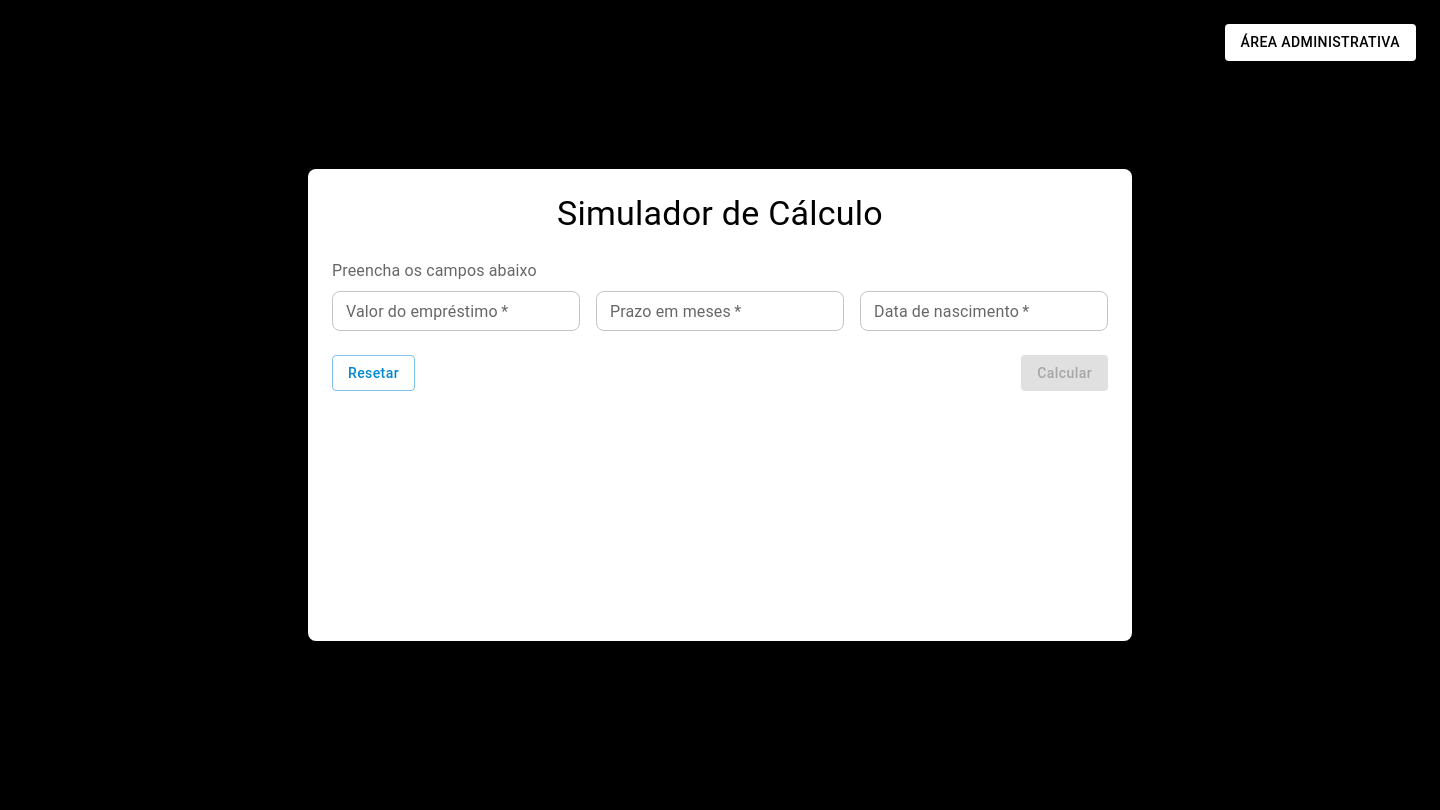
Simulador de Cálculo › exibe erro para idade menor que 6 anos
The width and height of the screenshot is (1440, 810).
Type "1000" into the field labelled "Valor do empréstimo *".
click(456, 311); type("1000")  # box [332,291,580,331]
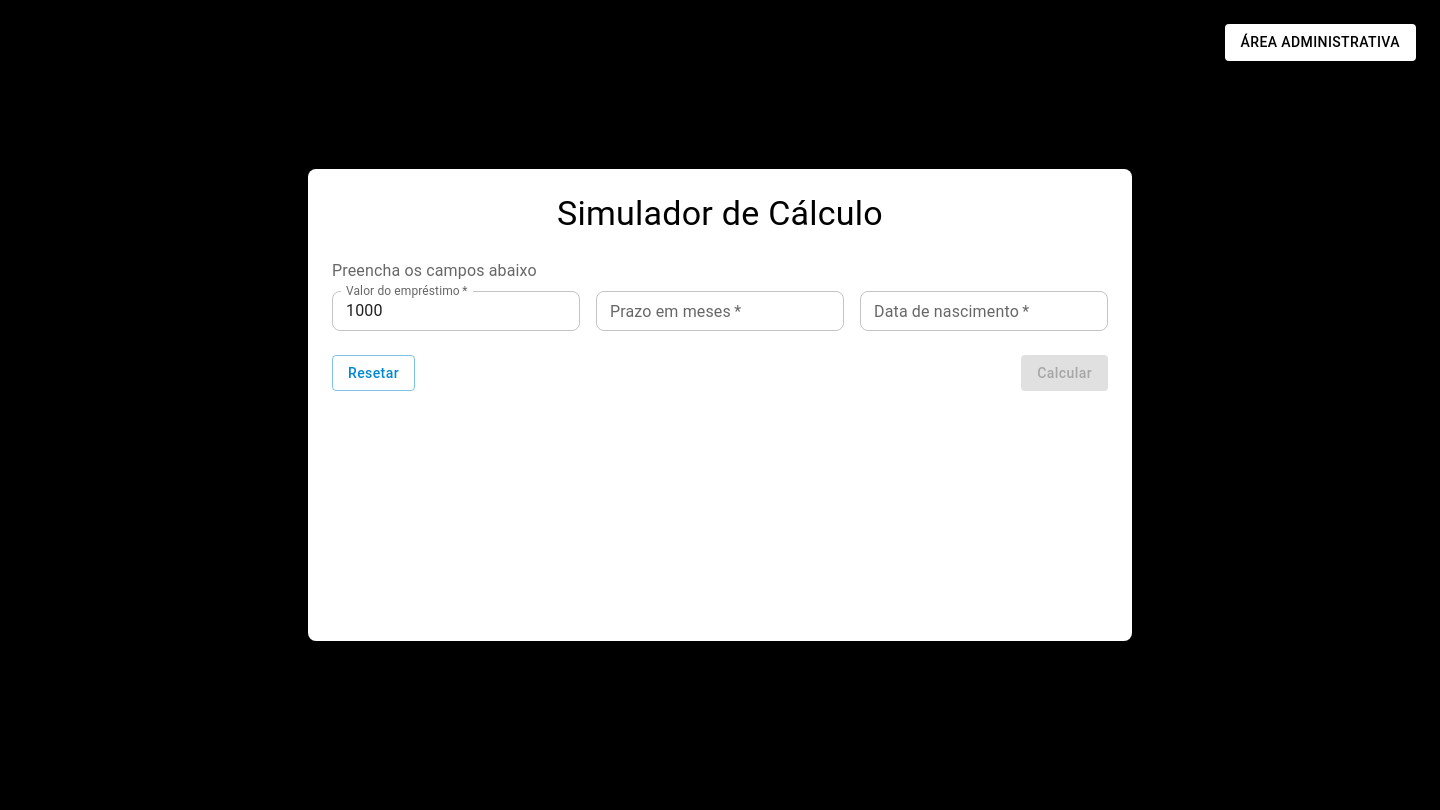
Type "12" into the field labelled "Prazo em meses *".
click(720, 311); type("12")  # box [596,291,844,331]
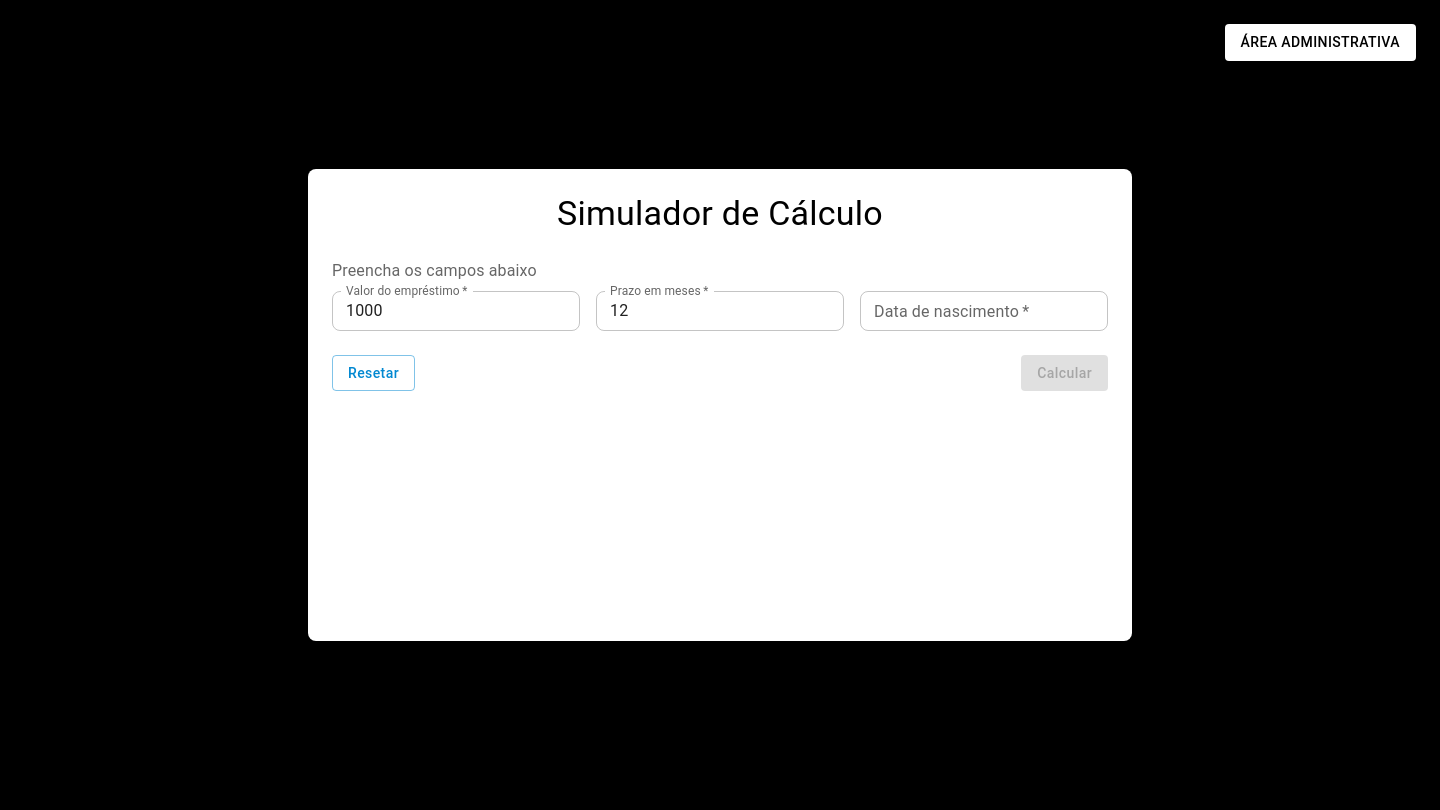
Type "01/01/2020" into the field labelled "Data de nascimento *".
click(984, 311); type("01/01/2020")  # box [860,291,1108,331]
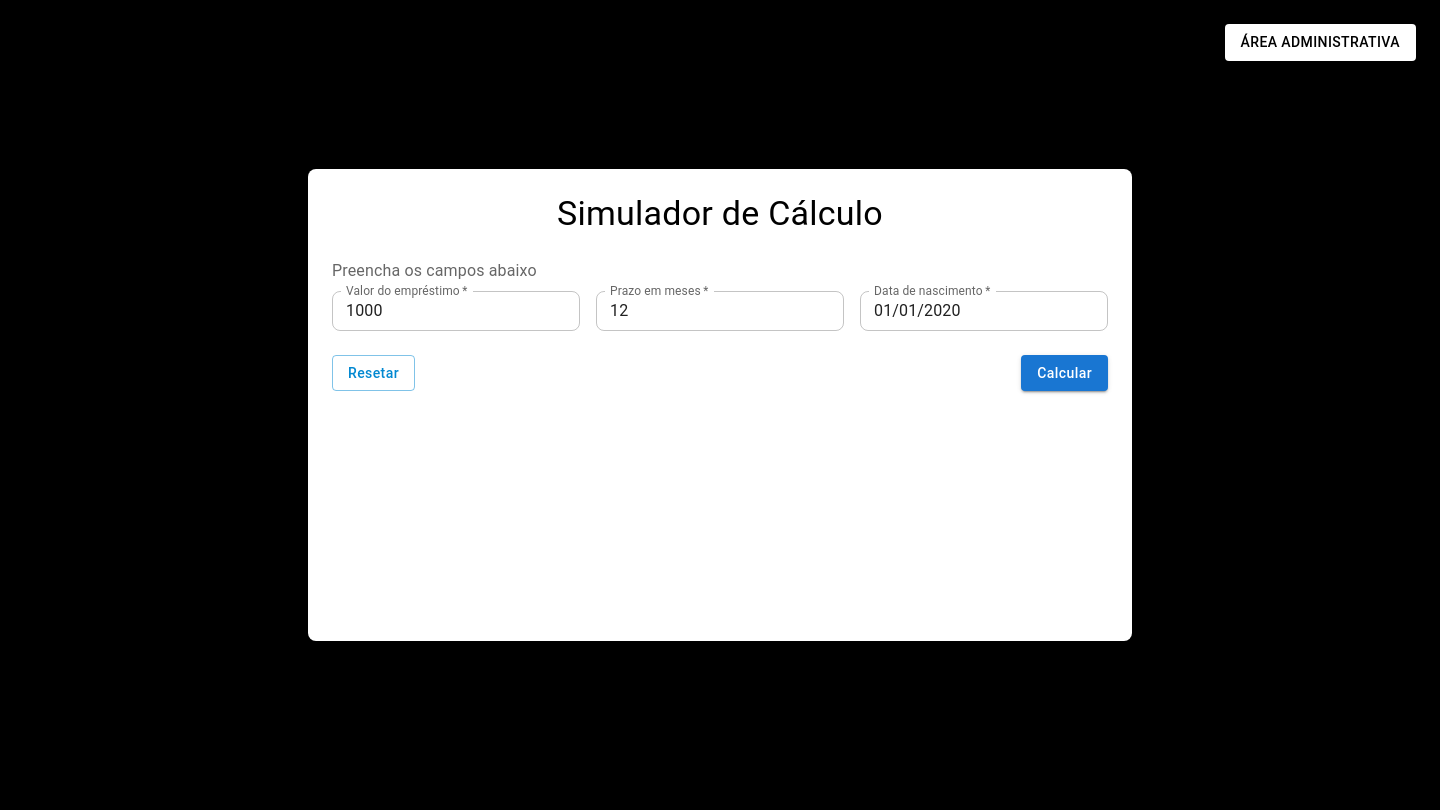
Click the button "Calcular".
click(1065, 373)  # box [1021,355,1108,392]
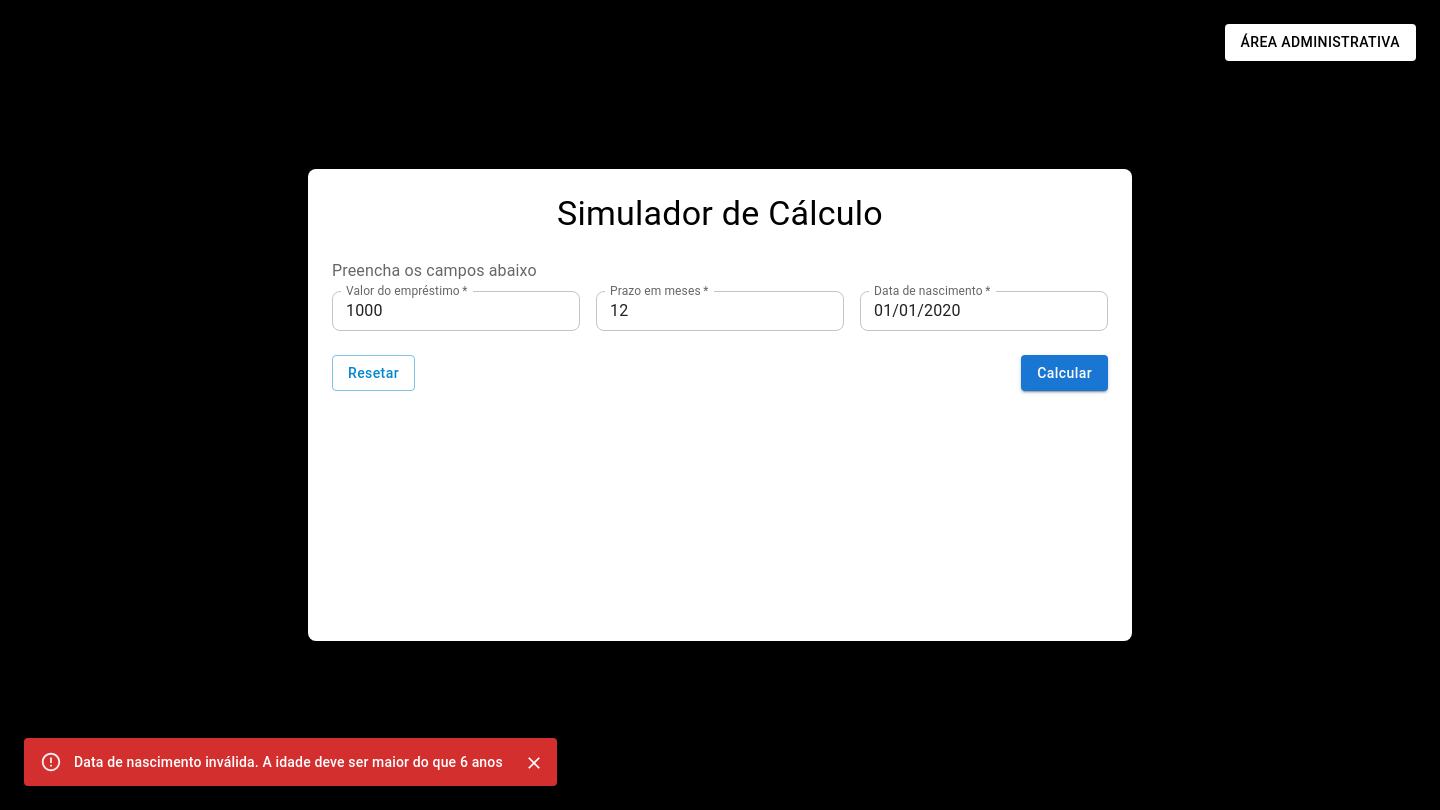
Expected: the text "Data de nascimento inválida. A idade deve ser maior do que 6 anos" is shown, [74,754,503,770]
